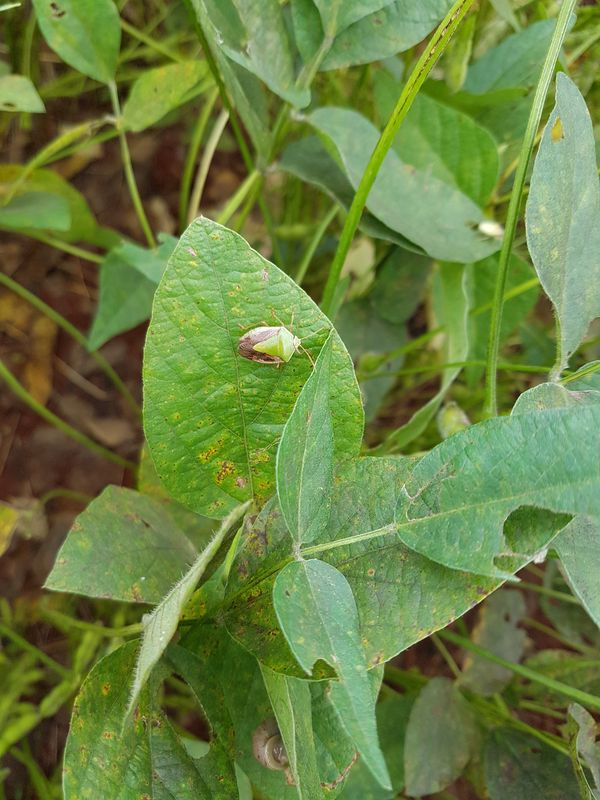Edessa_meditabunda: (231, 302, 322, 380)
Gastropoda: (244, 713, 305, 774)
